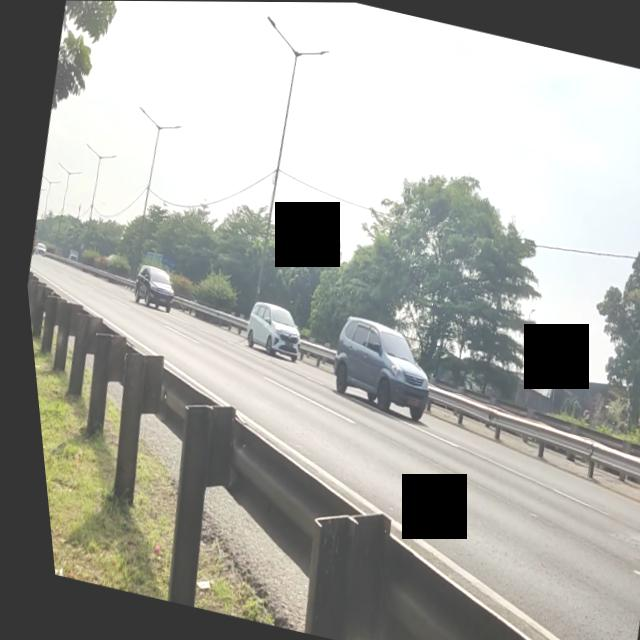Golongan I: (308, 304, 439, 424), (232, 295, 306, 363), (119, 257, 178, 316)
